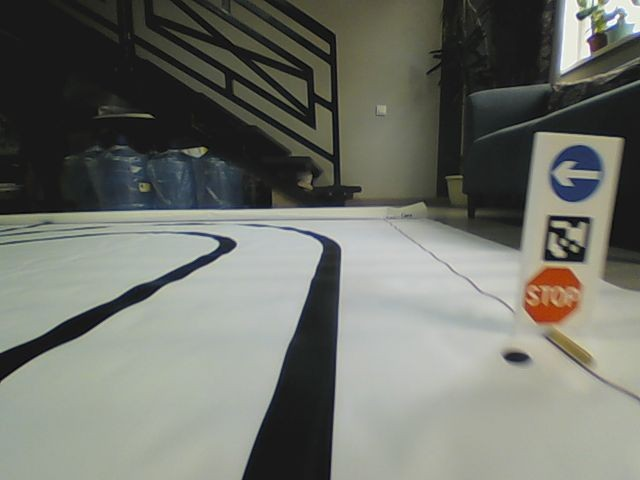Stop: (523, 265, 582, 327)
